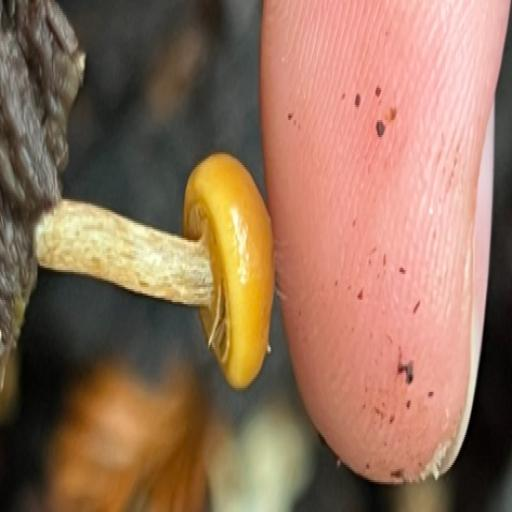Funeral Bell: (33, 103, 275, 418)
